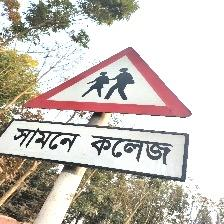College-in-front: (0, 53, 204, 183)
